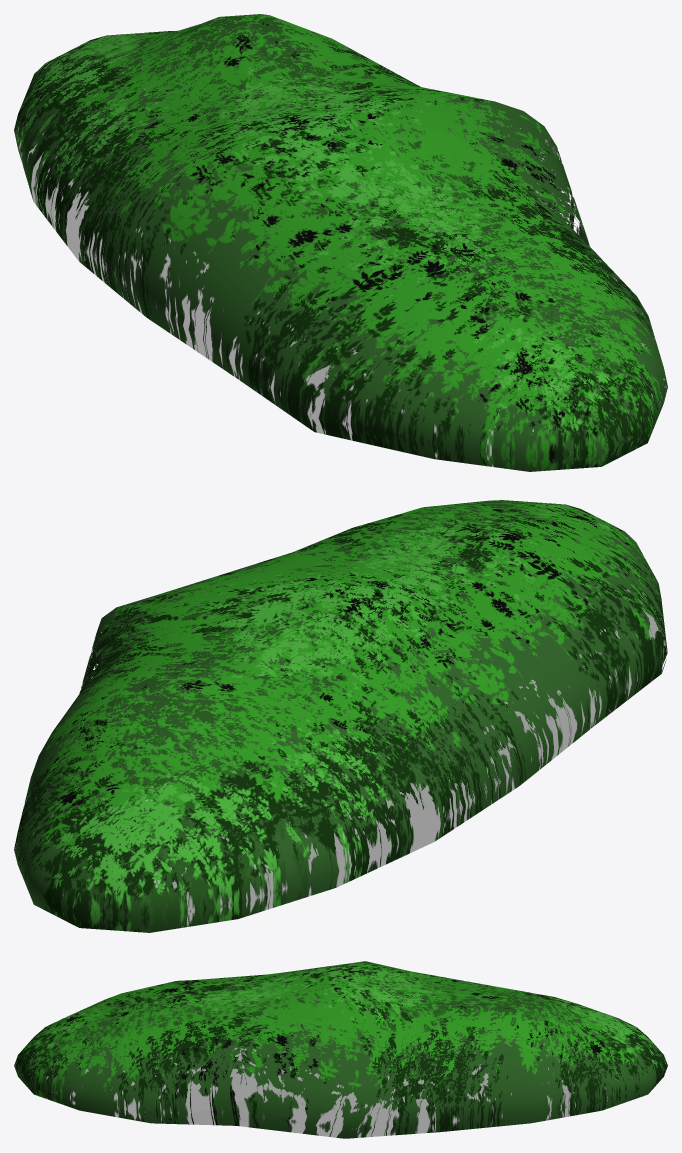
Rendered from leaf.fbx.
3 views of the same model, one above another, from view 1: azimuth 30°, elevation 25°; view 2: azimuth 150°, elevation 25°; view 3: azimuth 270°, elevation 25° (orthographic). The views are drawn at different scales.
Visible parts, largest first — view 1: pSphere1; view 2: pSphere1; view 3: pSphere1.
Part boxes in pixels (x1,y1,x2,y2): pSphere1: (14, 14, 667, 471); pSphere1: (14, 500, 667, 932); pSphere1: (14, 961, 667, 1138).
Bounding box in the file's own units: 3.95 × 1.4 × 8.51.
2 materials, 1 textured.
